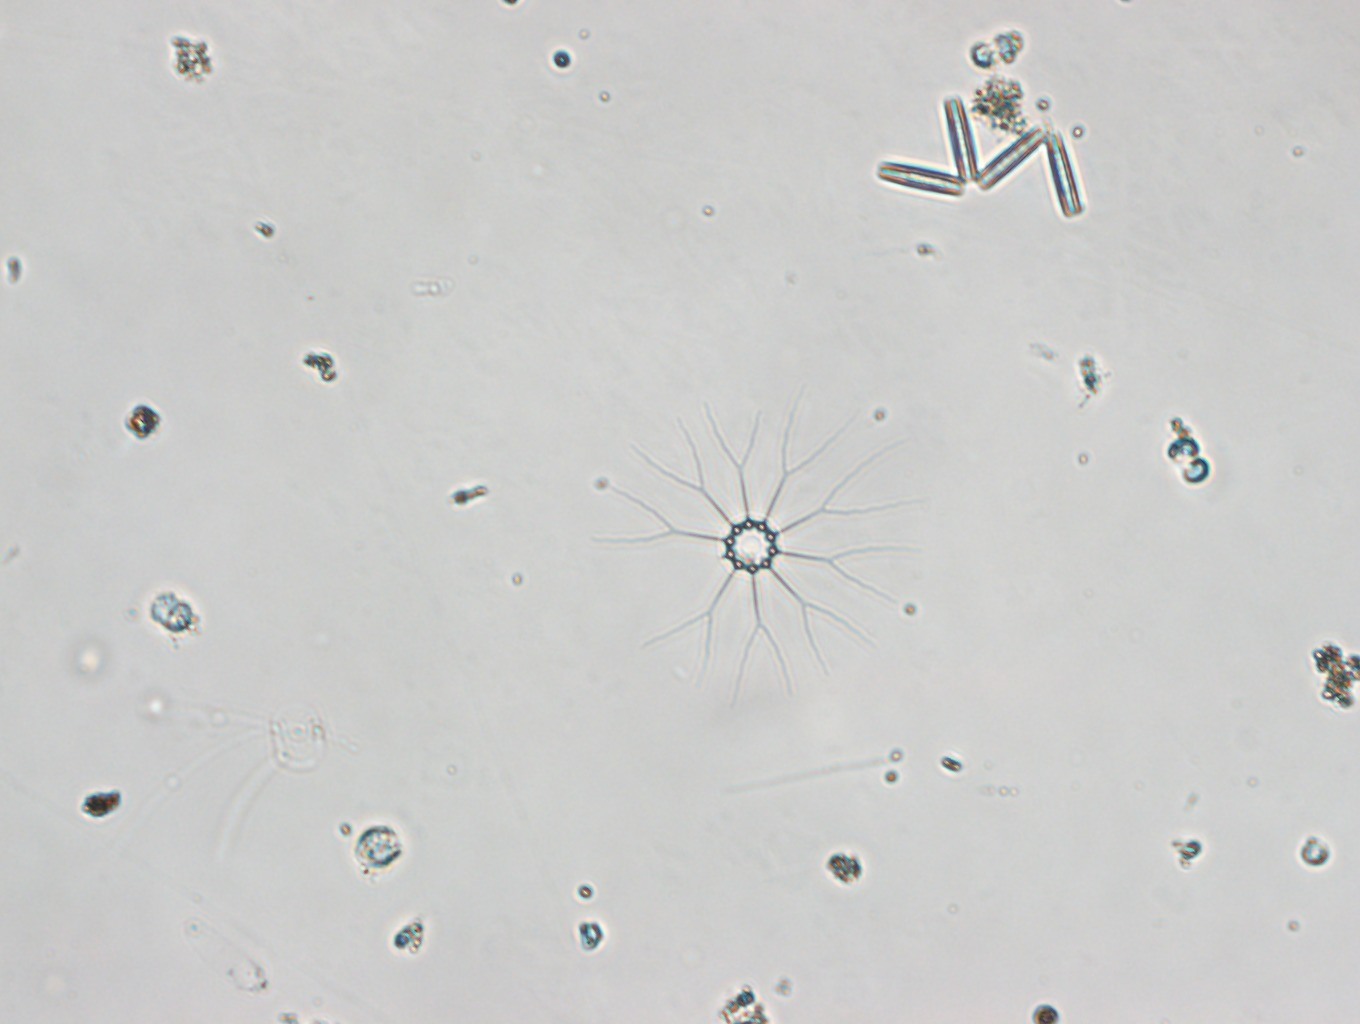bacteriastrum: (609, 406, 919, 687)
thalassionema nitzschioides: (877, 93, 1096, 229)
